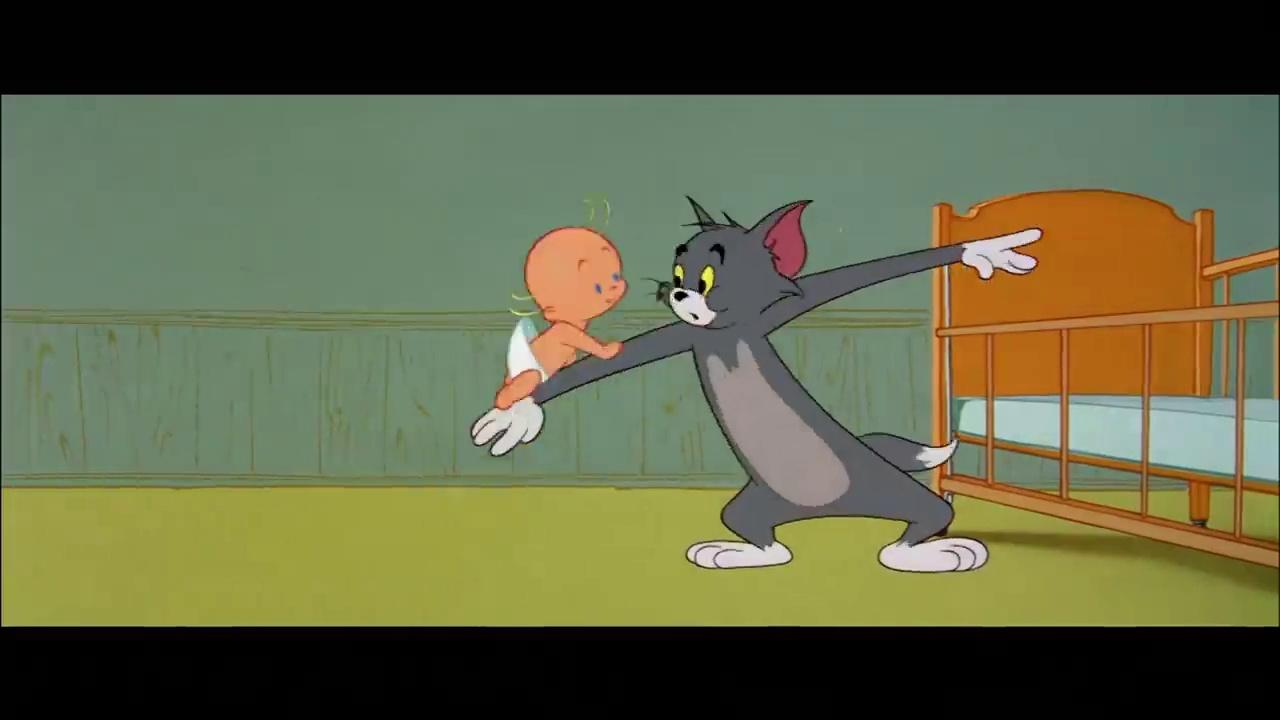Tom: (468, 196, 1046, 573)
